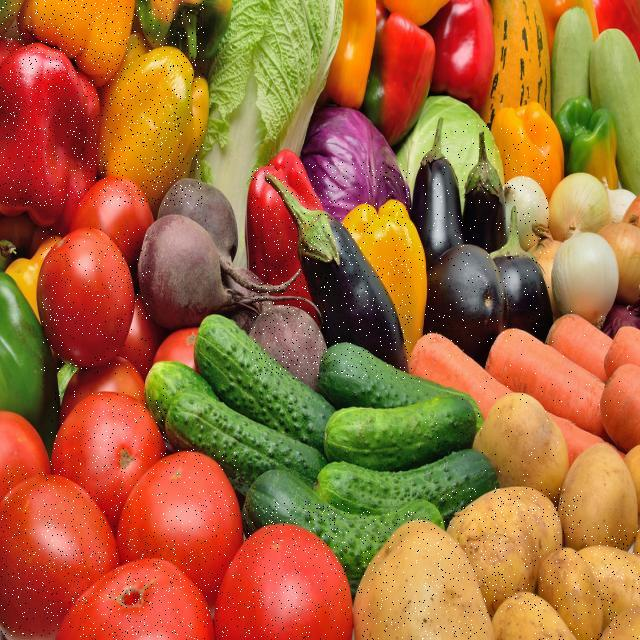Potato: (441, 488, 582, 612), (358, 511, 492, 640), (534, 525, 640, 640), (478, 380, 572, 505), (562, 420, 640, 557)
aubergine: (251, 162, 412, 379), (419, 124, 549, 345)
carrots: (417, 312, 640, 439)
peppers: (0, 0, 204, 206)
tomatoes: (1, 464, 123, 636), (216, 501, 349, 640), (115, 449, 238, 599), (41, 228, 150, 374), (49, 388, 168, 517), (69, 539, 211, 640)
